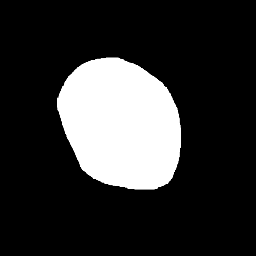mass: (62, 61, 179, 185)
